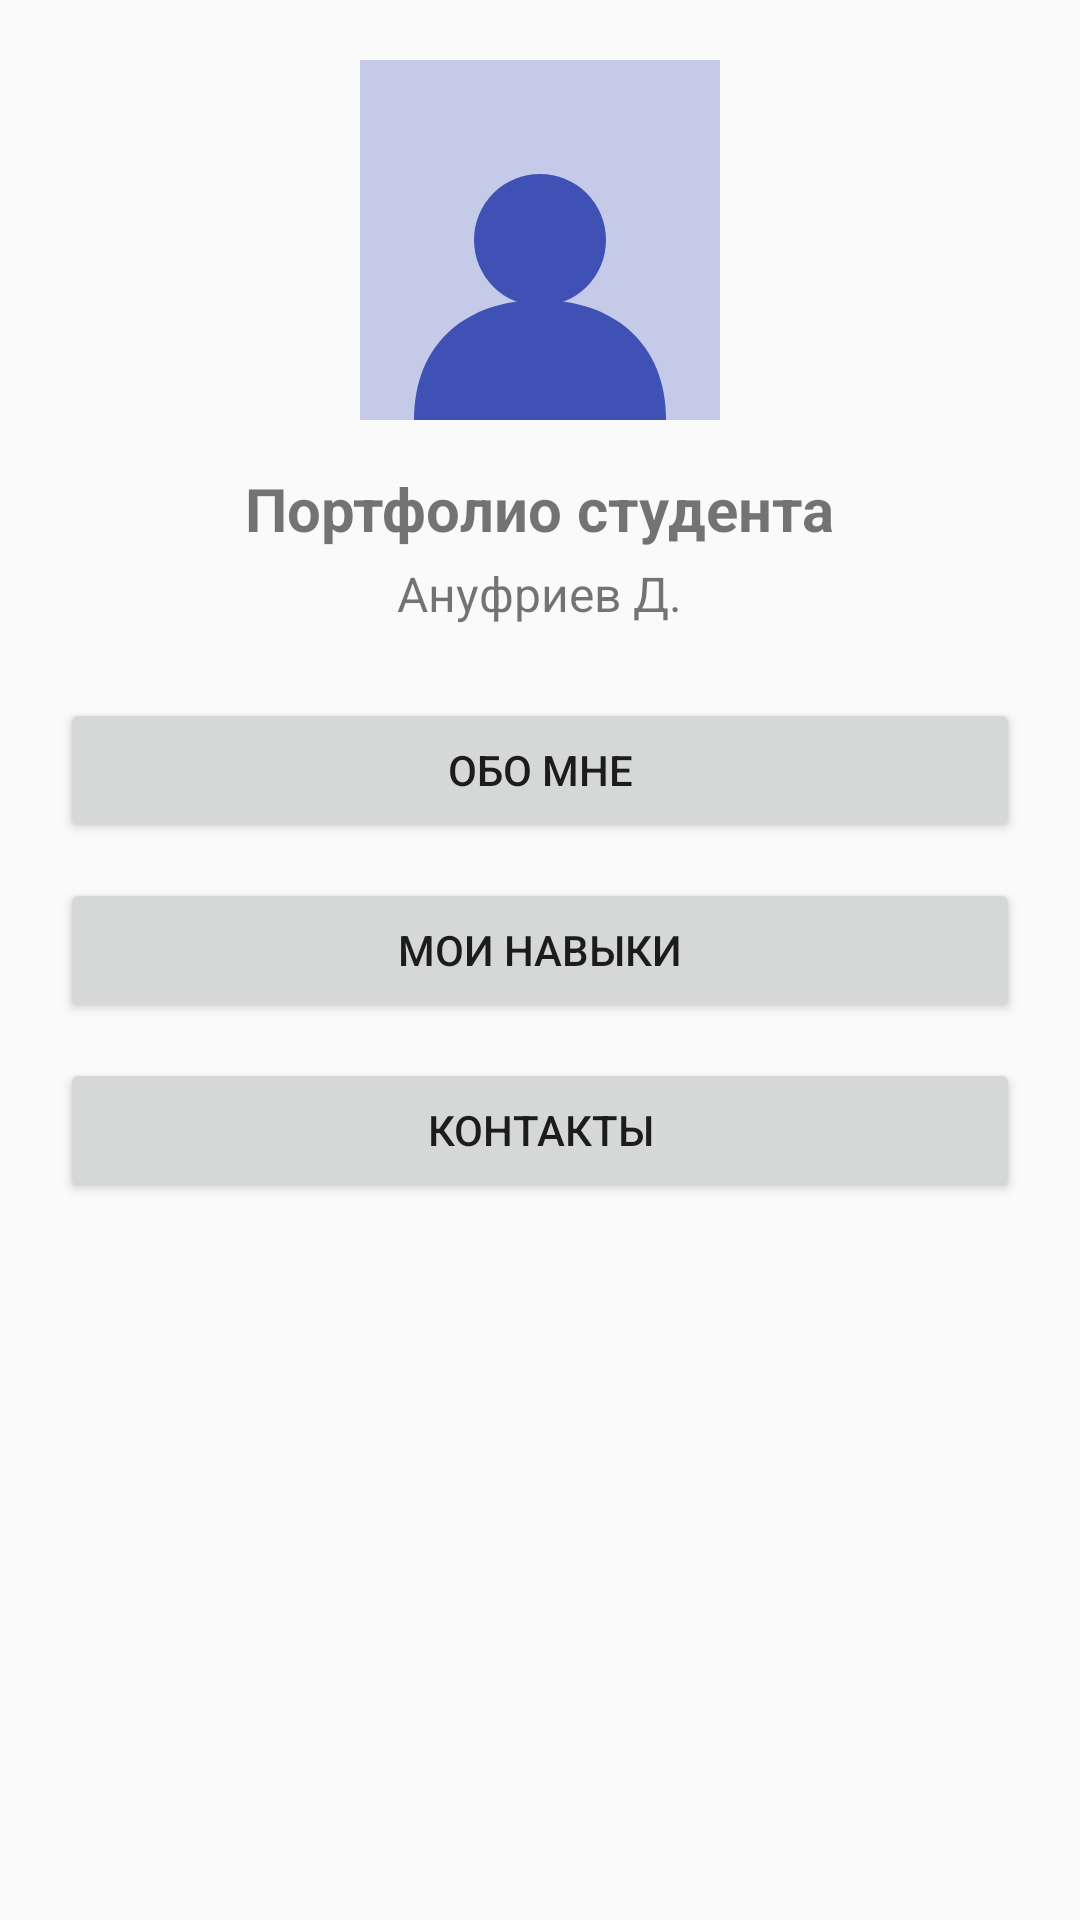

Icons on this 1080px x 1920px Android screen, each with its box as (x1, y1, x2, y2):
Фото студента: (360, 60, 720, 420)
